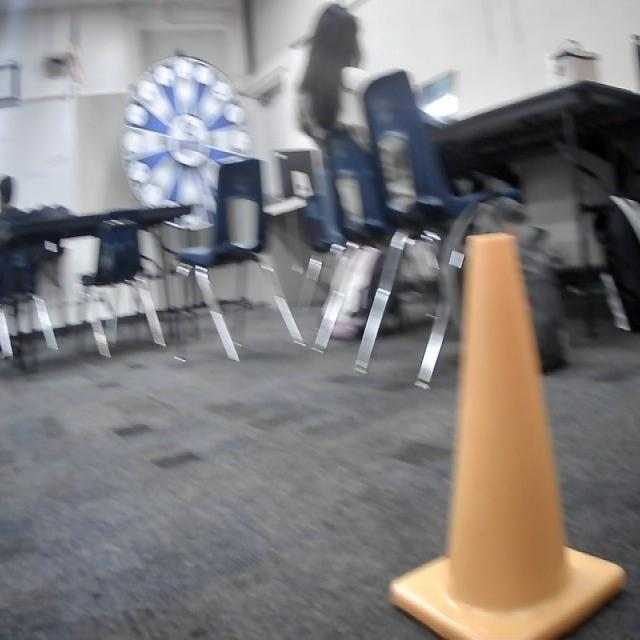cone: (391, 233, 625, 640)
